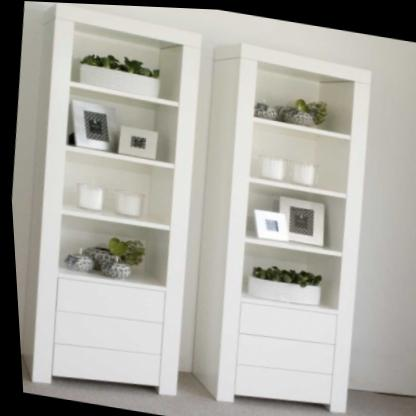Cupboard: (0, 0, 222, 409), (169, 37, 387, 416)
